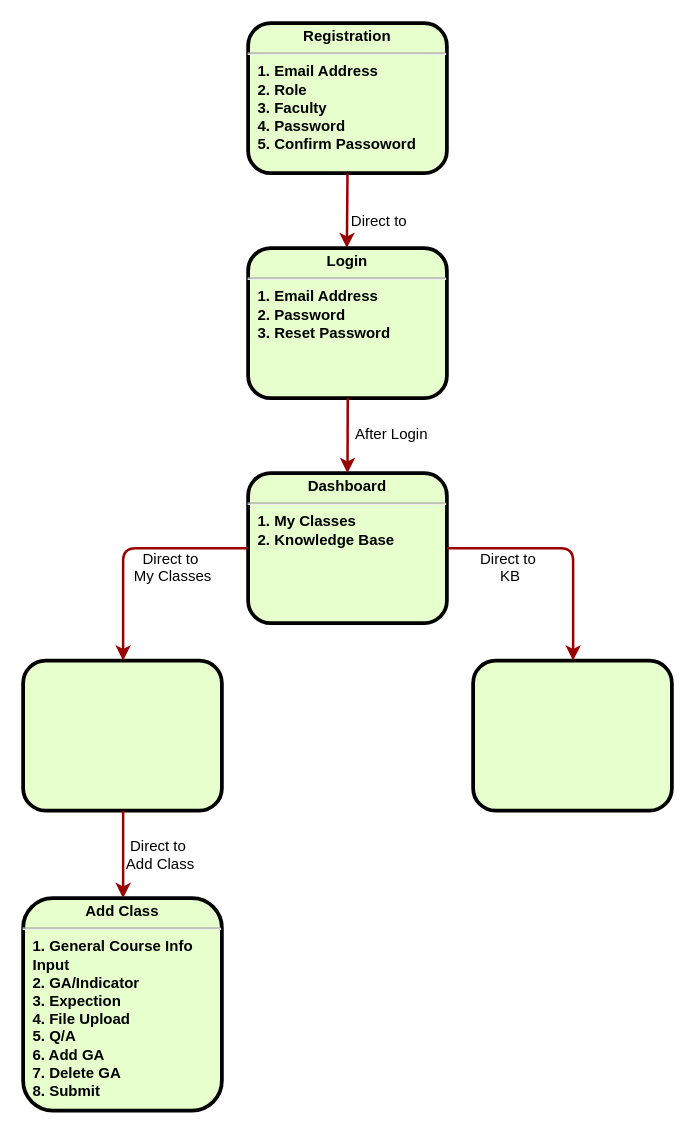
The diagram is 695 pixels wide and 1134 high, and some of its shapes have lost their labels. The centre of each missing label's shape, as x and y in pixels:
Knowledge Base (See Pod C User's Manual): pixel 572 735
My Classes 1. Search Button 2. Add Class Button 3. Table of Content: pixel 122 735
